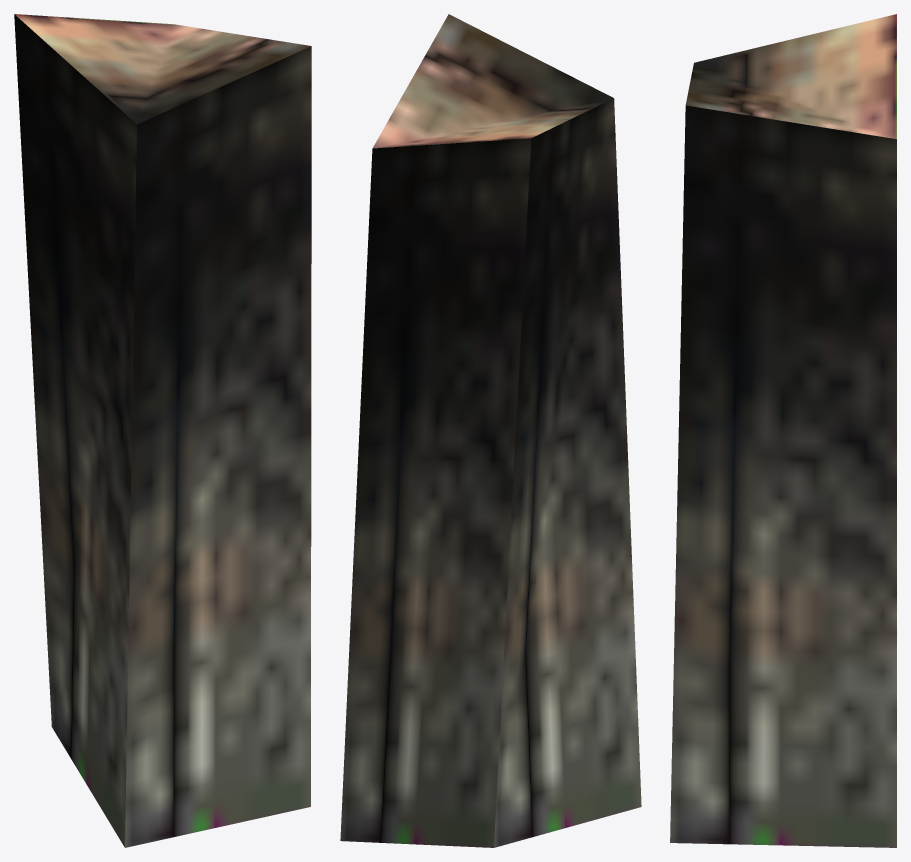
Rendered from USA - Base Infrastructure - Power Plant - Damage State 07 - ABPWRPLANT_d07.glb.
3 views of the same model, side by side, from view 1: azimuth 30°, elevation 25°; view 2: azimuth 150°, elevation 25°; view 3: azimuth 270°, elevation 25° (orthographic).
Parts seen in each view (by area): view 1: ABPWRPLANT_D07; view 2: ABPWRPLANT_D07; view 3: ABPWRPLANT_D07.
Boxes of the visible parts, left/top/right/bottom form: ABPWRPLANT_D07: left=14, top=14, right=311, bottom=847; ABPWRPLANT_D07: left=340, top=14, right=641, bottom=847; ABPWRPLANT_D07: left=670, top=14, right=896, bottom=847.
Bounding box in the file's own units: 1.38 × 5.18 × 1.43.
Materials: 1 (1 with a texture image).
